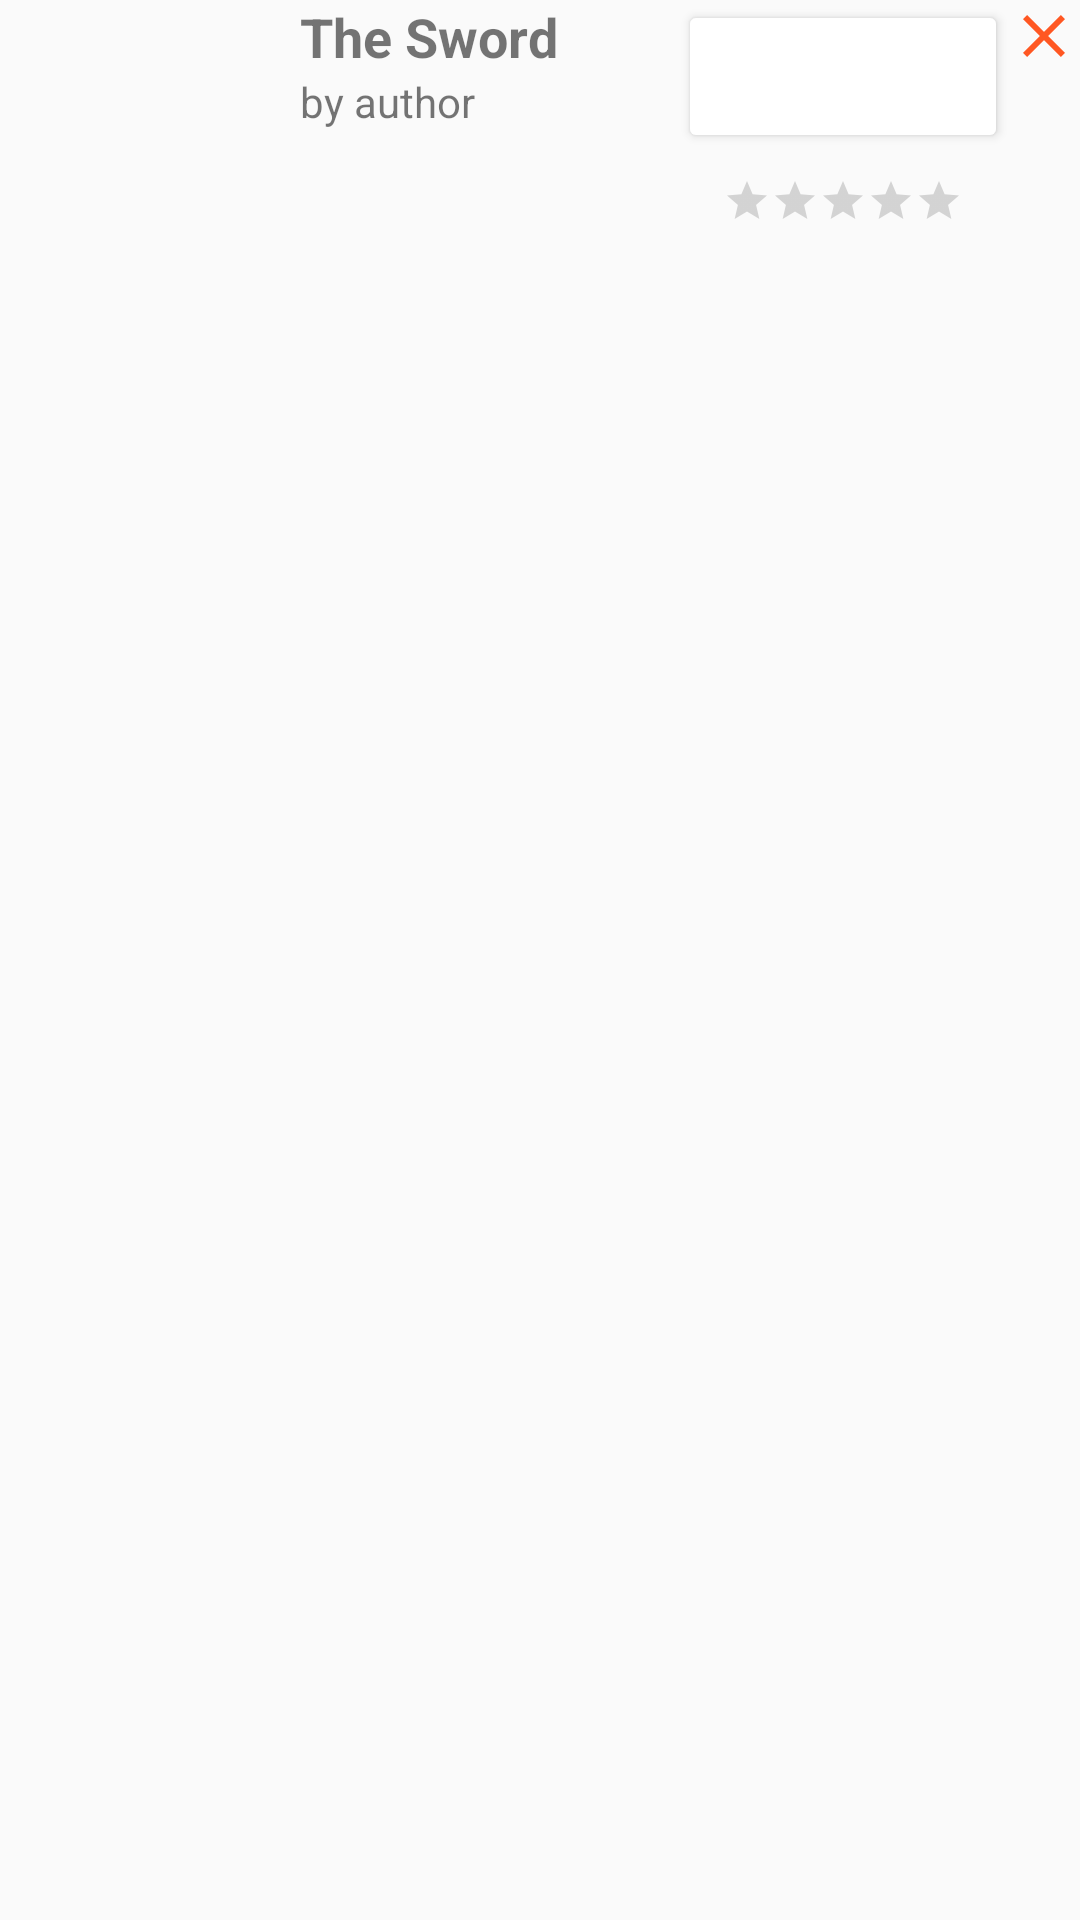

Icon click points for this 1080×1920 phone screenshot, format point (x, y):
remove: point (1044, 36)
